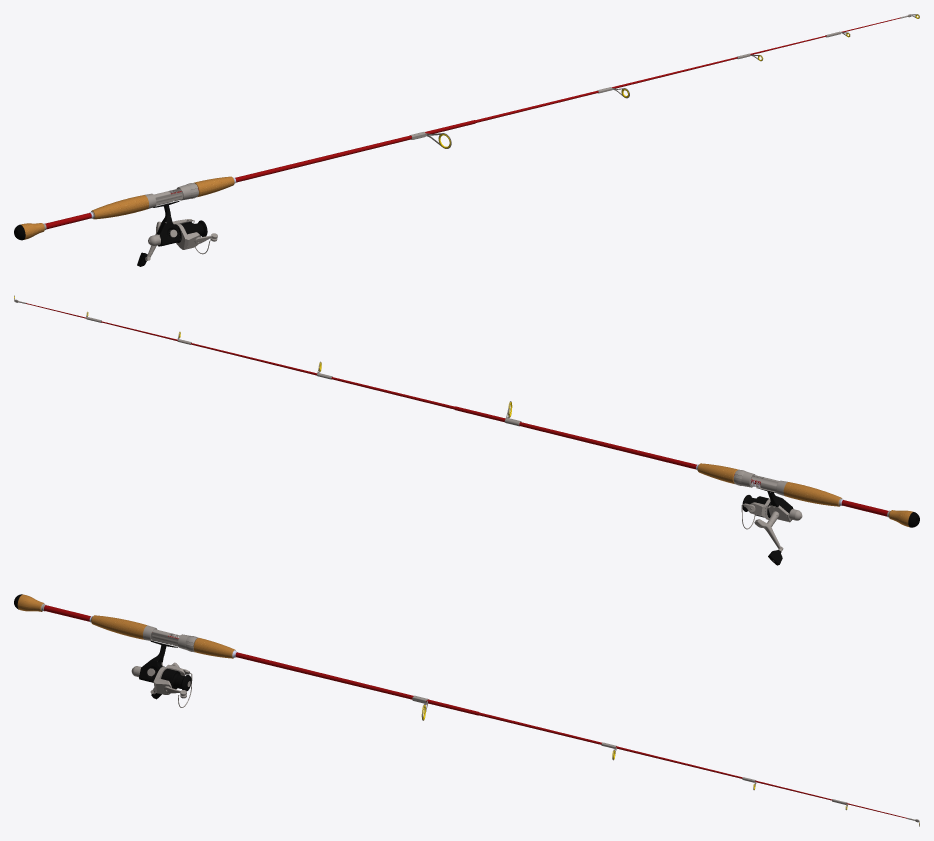
File: fishingrod.fbx
3 views of the same model, one above another, from view 1: azimuth 30°, elevation 25°; view 2: azimuth 150°, elevation 25°; view 3: azimuth 330°, elevation 25° (orthographic).
Visible parts, largest first — view 1: NONE-DC_Shell (×4); view 2: NONE-DC_Shell (×3); view 3: NONE-DC_Shell (×5).
Part boxes in pixels (x1,y1,x2,y2): NONE-DC_Shell (×4): (45,17,900,246); NONE-DC_Shell (×3): (26,303,888,516); NONE-DC_Shell (×5): (44,605,907,818).
Size of the model in its own units: 2168 by 180 by 119.
58 materials, 3 textured.
